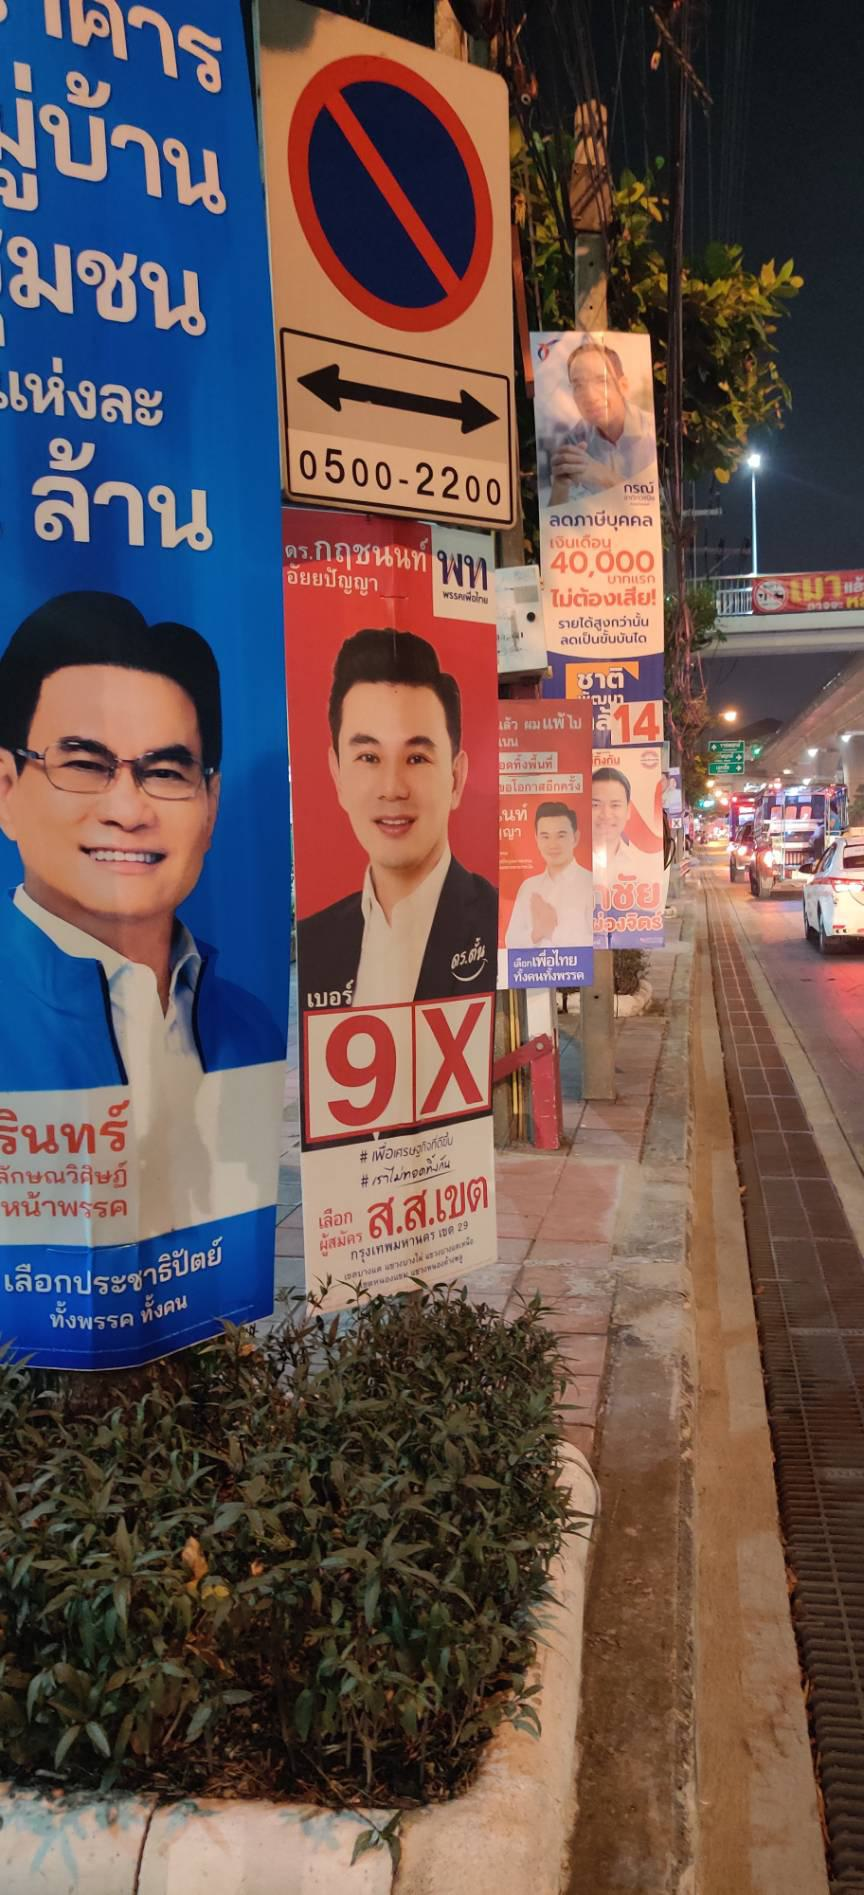Banner: (13, 0, 268, 1366), (269, 534, 510, 1298), (535, 328, 660, 644), (552, 659, 672, 967), (501, 699, 601, 979)
